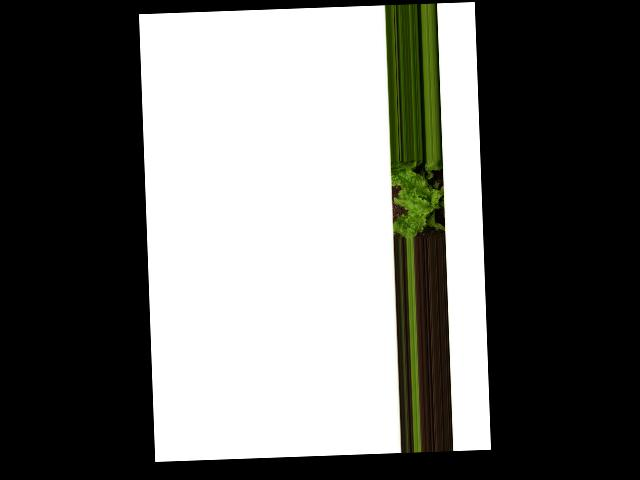lettuce: (393, 158, 449, 238)
